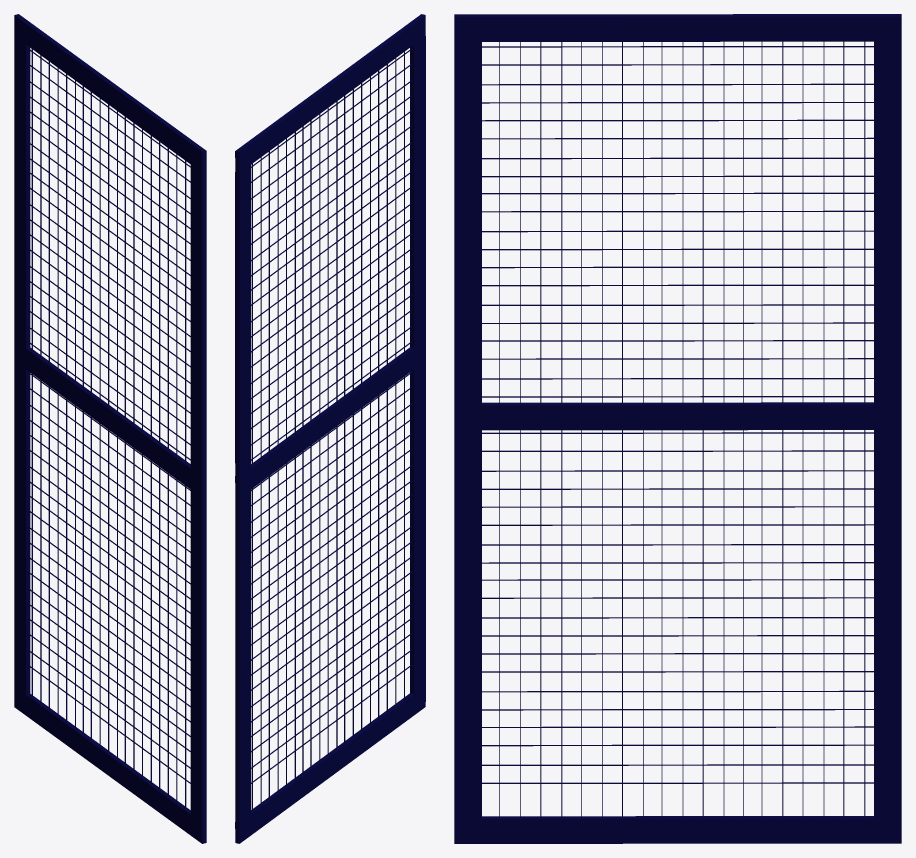
Rendered from PortaAberta.obj.
3 views of the same model, side by side, from view 1: azimuth 30°, elevation 25°; view 2: azimuth 150°, elevation 25°; view 3: azimuth 270°, elevation 25° (orthographic). The views are drawn at different scales.
Visible parts, largest first — view 1: Mesh.1667_Cube.031_Cube.004, Mesh.1668_Cube.031_Cube.005, Mesh.1666_Cube.030_Cube.007, Mesh.1669_Cube.030_Cube.008, Mesh.1670_Cube.030_Cube.009, Mesh.1658_Mesh.780_Mesh.054.037, Mesh.1648_Mesh.780_Mesh.054.027, Mesh.1656_Mesh.780_Mesh.054.035, Mesh.1661_Mesh.780_Mesh.054.040, Mesh.1651_Mesh.780_Mesh.054.030, Mesh.1665_Mesh.780_Mesh.054.044, Mesh.1659_Mesh.780_Mesh.054.038 (+12 smaller); view 2: Mesh.1668_Cube.031_Cube.005, Mesh.1667_Cube.031_Cube.004, Mesh.1666_Cube.030_Cube.007, Mesh.1669_Cube.030_Cube.008, Mesh.1670_Cube.030_Cube.009, Mesh.1663_Mesh.780_Mesh.054.042, Mesh.1654_Mesh.780_Mesh.054.033, Mesh.1649_Mesh.780_Mesh.054.028, Mesh.1664_Mesh.780_Mesh.054.043, Mesh.1660_Mesh.780_Mesh.054.039, Mesh.1659_Mesh.780_Mesh.054.038, Mesh.1657_Mesh.780_Mesh.054.036 (+12 smaller); view 3: Mesh.1667_Cube.031_Cube.004, Mesh.1668_Cube.031_Cube.005, Mesh.1666_Cube.030_Cube.007, Mesh.1670_Cube.030_Cube.009, Mesh.1669_Cube.030_Cube.008, Mesh.1665_Mesh.780_Mesh.054.044, Mesh.1664_Mesh.780_Mesh.054.043, Mesh.1657_Mesh.780_Mesh.054.036, Mesh.1652_Mesh.780_Mesh.054.031, Mesh.1648_Mesh.780_Mesh.054.027, Mesh.1647_Mesh.780_Mesh.054.026, Mesh.1656_Mesh.780_Mesh.054.035 (+5 smaller).
Part boxes in pixels (left/top/right/bottom): Mesh.1667_Cube.031_Cube.004: left=190, top=165, right=206, bottom=838; Mesh.1668_Cube.031_Cube.005: left=14, top=36, right=30, bottom=694; Mesh.1666_Cube.030_Cube.007: left=14, top=14, right=206, bottom=172; Mesh.1669_Cube.030_Cube.008: left=14, top=686, right=206, bottom=843; Mesh.1670_Cube.030_Cube.009: left=14, top=340, right=202, bottom=497; Mesh.1658_Mesh.780_Mesh.054.037: left=133, top=123, right=134, bottom=770; Mesh.1648_Mesh.780_Mesh.054.027: left=40, top=55, right=41, bottom=703; Mesh.1656_Mesh.780_Mesh.054.035: left=90, top=92, right=91, bottom=739; Mesh.1661_Mesh.780_Mesh.054.040: left=150, top=135, right=151, bottom=783; Mesh.1651_Mesh.780_Mesh.054.030: left=48, top=61, right=49, bottom=709; Mesh.1665_Mesh.780_Mesh.054.044: left=167, top=148, right=168, bottom=795; Mesh.1659_Mesh.780_Mesh.054.038: left=124, top=117, right=125, bottom=764; Mesh.1668_Cube.031_Cube.005: left=235, top=165, right=250, bottom=822; Mesh.1667_Cube.031_Cube.004: left=410, top=36, right=425, bottom=701; Mesh.1666_Cube.030_Cube.007: left=235, top=14, right=425, bottom=172; Mesh.1669_Cube.030_Cube.008: left=235, top=686, right=425, bottom=843; Mesh.1670_Cube.030_Cube.009: left=235, top=347, right=425, bottom=497; Mesh.1663_Mesh.780_Mesh.054.042: left=395, top=58, right=396, bottom=705; Mesh.1654_Mesh.780_Mesh.054.033: left=336, top=101, right=337, bottom=748; Mesh.1649_Mesh.780_Mesh.054.028: left=302, top=126, right=303, bottom=773; Mesh.1664_Mesh.780_Mesh.054.043: left=378, top=70, right=379, bottom=718; Mesh.1660_Mesh.780_Mesh.054.039: left=361, top=83, right=362, bottom=730; Mesh.1659_Mesh.780_Mesh.054.038: left=344, top=95, right=345, bottom=743; Mesh.1657_Mesh.780_Mesh.054.036: left=319, top=114, right=320, bottom=761; Mesh.1667_Cube.031_Cube.004: left=454, top=42, right=481, bottom=838; Mesh.1668_Cube.031_Cube.005: left=874, top=41, right=901, bottom=837; Mesh.1666_Cube.030_Cube.007: left=454, top=14, right=901, bottom=41; Mesh.1670_Cube.030_Cube.009: left=454, top=402, right=901, bottom=430; Mesh.1669_Cube.030_Cube.008: left=454, top=816, right=901, bottom=843; Mesh.1665_Mesh.780_Mesh.054.044: left=540, top=42, right=541, bottom=817; Mesh.1664_Mesh.780_Mesh.054.043: left=561, top=42, right=562, bottom=817; Mesh.1657_Mesh.780_Mesh.054.036: left=702, top=42, right=703, bottom=817; Mesh.1652_Mesh.780_Mesh.054.031: left=782, top=41, right=783, bottom=817; Mesh.1648_Mesh.780_Mesh.054.027: left=843, top=41, right=844, bottom=817; Mesh.1647_Mesh.780_Mesh.054.026: left=864, top=41, right=865, bottom=817; Mesh.1656_Mesh.780_Mesh.054.035: left=723, top=42, right=724, bottom=817.
Size of the model in its own units: 0.0349 by 4.5 by 2.2.
